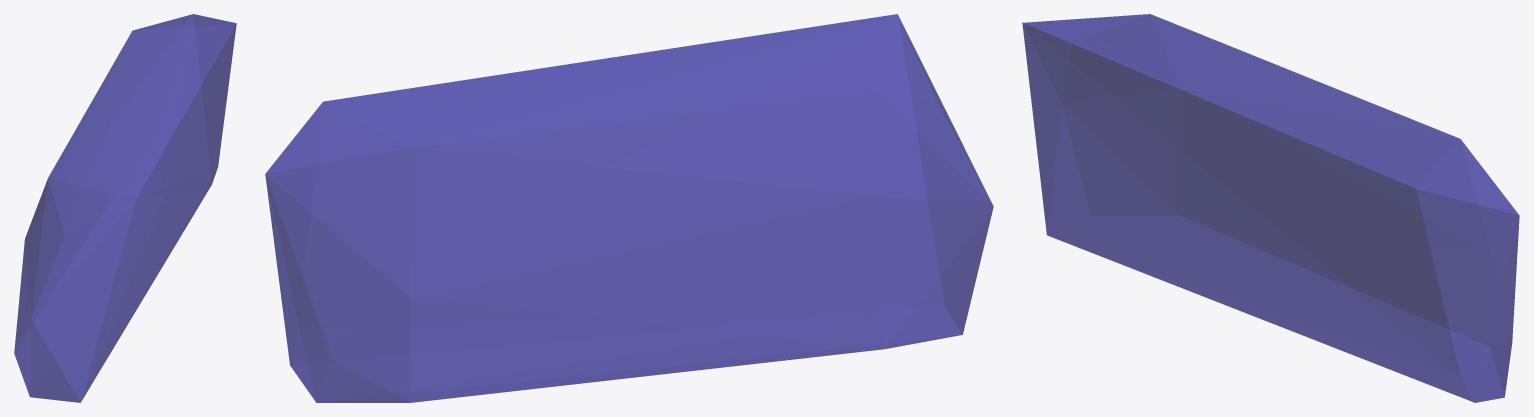
3 views of the same model, side by side, from view 1: azimuth 30°, elevation 25°; view 2: azimuth 150°, elevation 25°; view 3: azimuth 270°, elevation 25° (orthographic). The views are drawn at different scales.
Visible parts, largest first — view 1: Shape_IndexedFaceSet.013_Shape_IndexedFaceSet.3507; view 2: Shape_IndexedFaceSet.013_Shape_IndexedFaceSet.3507; view 3: Shape_IndexedFaceSet.013_Shape_IndexedFaceSet.3507.
Boxes of the visible parts, box(x1,y1,x2,y2) form: Shape_IndexedFaceSet.013_Shape_IndexedFaceSet.3507: box(14, 14, 236, 402); Shape_IndexedFaceSet.013_Shape_IndexedFaceSet.3507: box(265, 14, 993, 402); Shape_IndexedFaceSet.013_Shape_IndexedFaceSet.3507: box(1022, 14, 1519, 402).
Bounding box in the file's own units: 0.1266 × 0.0685 × 0.1291.
